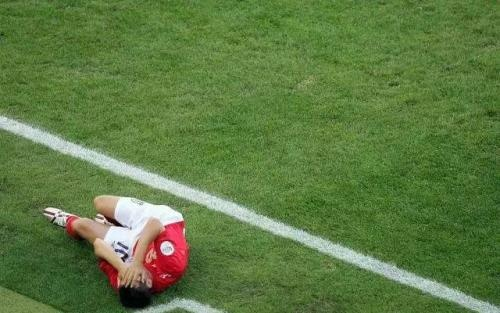falling: (38, 186, 196, 303)
